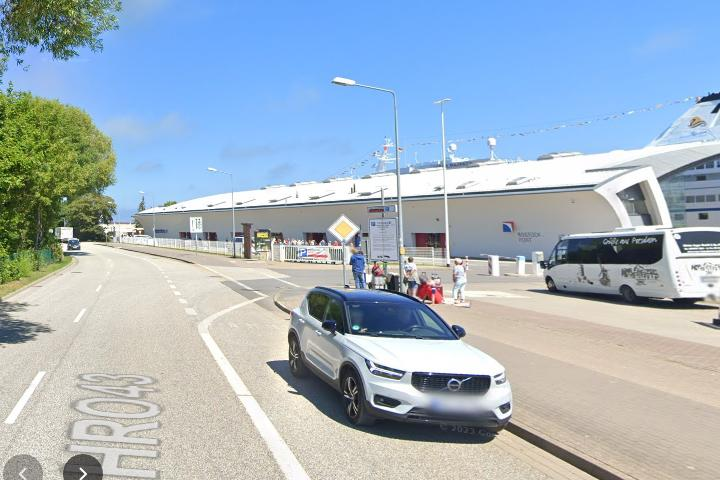google_maps: (62, 454, 105, 480), (3, 454, 44, 480)
traffic_sign: (326, 213, 361, 245)
vehicle: (277, 278, 518, 442), (541, 224, 720, 308), (50, 224, 75, 243)
